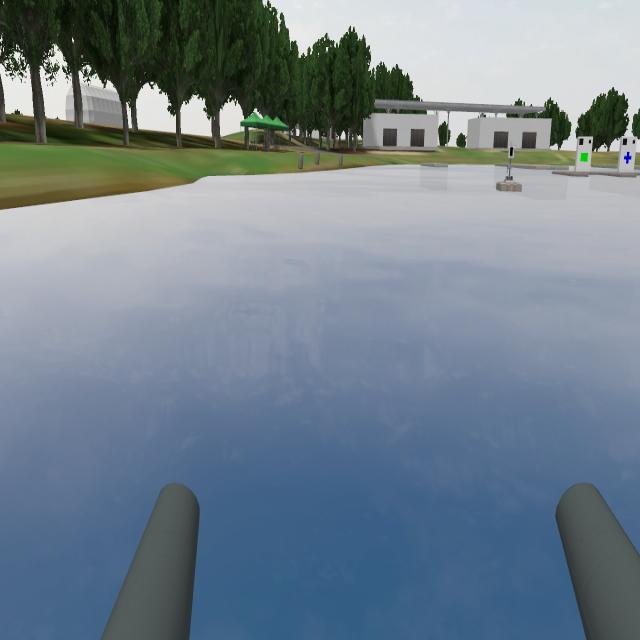black_pole: (505, 142, 519, 168)
